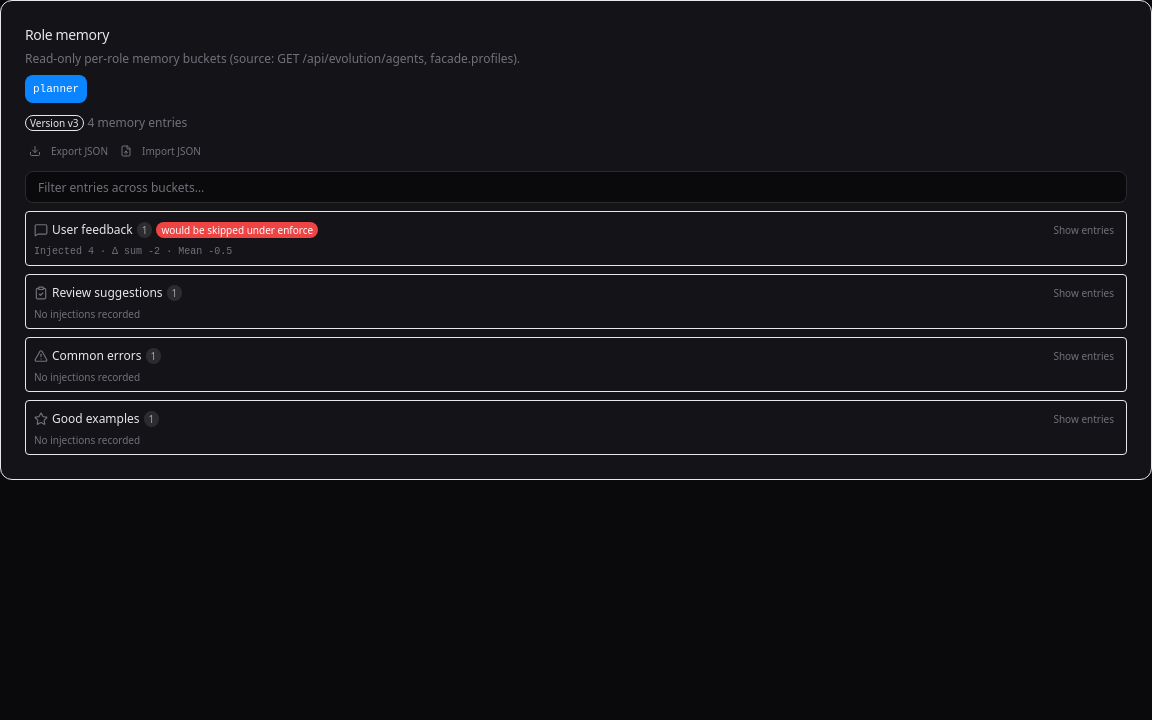
Test: MemoryDomain bucket glyphs + gating tooltip › clicking the enforce-skip badge opens the decision tooltip with mean and samples
Click the button with test id "memory-gating-userFeedback" at {"x": 237, "y": 230}, box top-left (156, 222), bottom-right (318, 238)
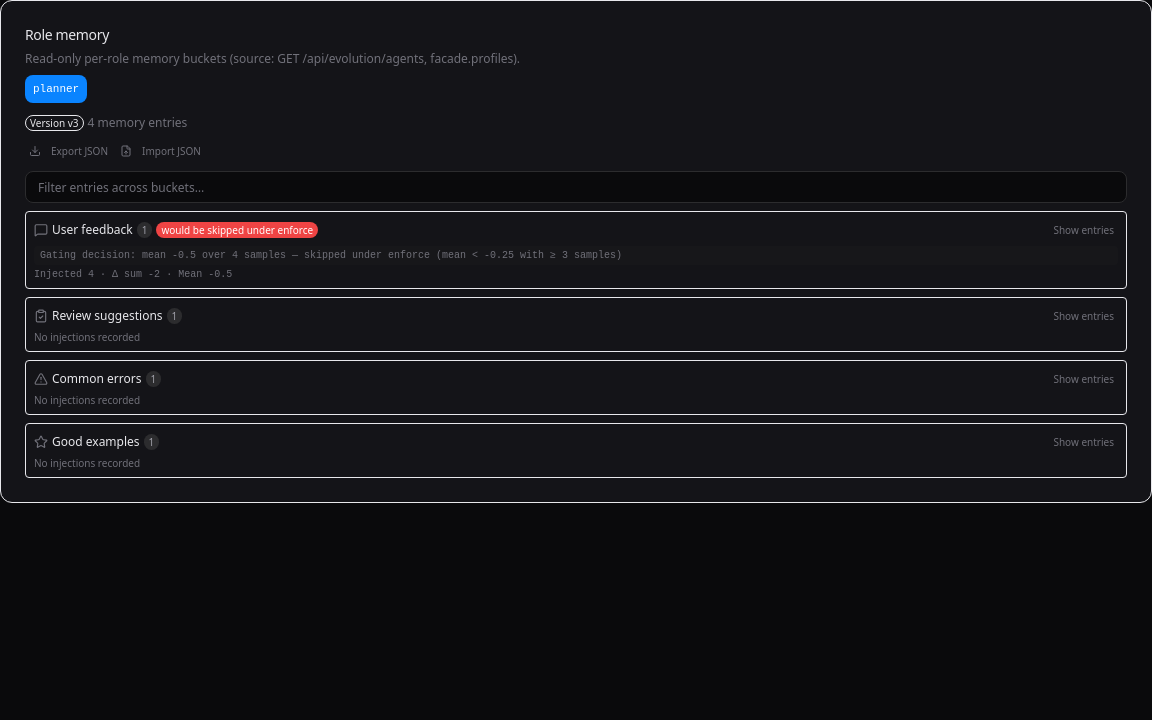
Now the text with test id "memory-gating-detail-userFeedback" shows "-0.5", box top-left (40, 250), bottom-right (622, 261)
Now the text with test id "memory-gating-detail-userFeedback" shows "4", box top-left (40, 250), bottom-right (622, 261)
